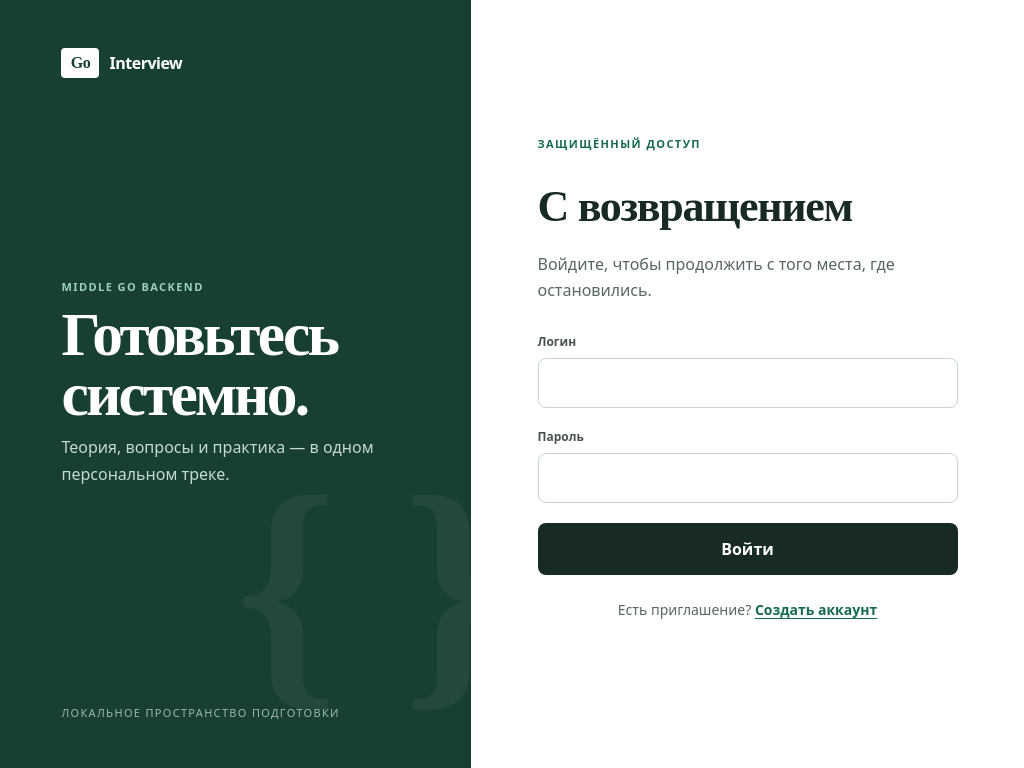
Test: keeps login failures generic and the form accessible
Expected: the heading "С возвращением" is shown, x1=538 y1=182 x2=852 y2=231
Type "fedor" into the field labelled "Логин" at (748, 383), box x1=538 y1=358 x2=958 y2=408
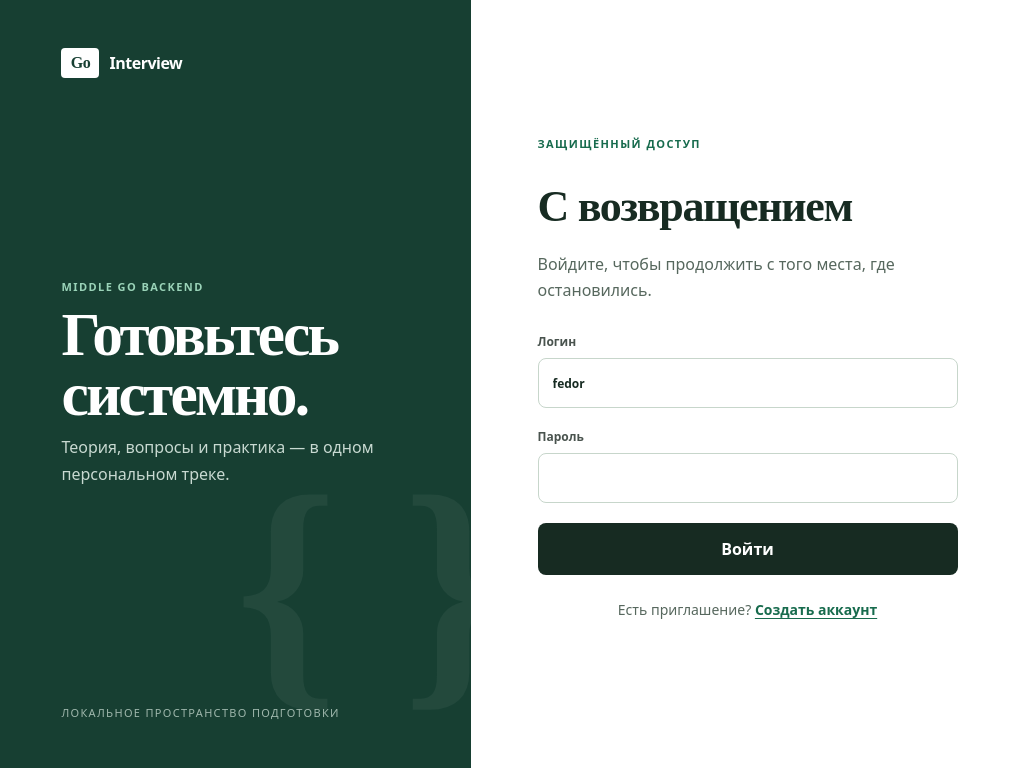
Type "wrong-password" into the password field labelled "Пароль" at (748, 478), box x1=538 y1=453 x2=958 y2=503
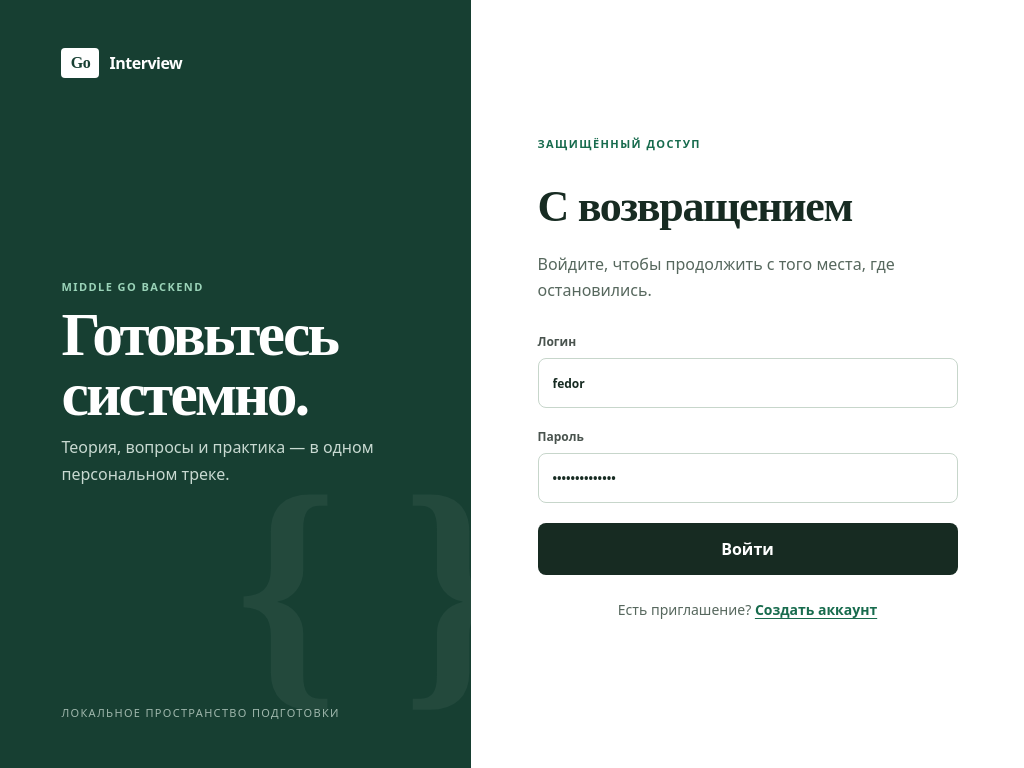
Click the button "Войти" at (748, 549), box x1=538 y1=523 x2=958 y2=575
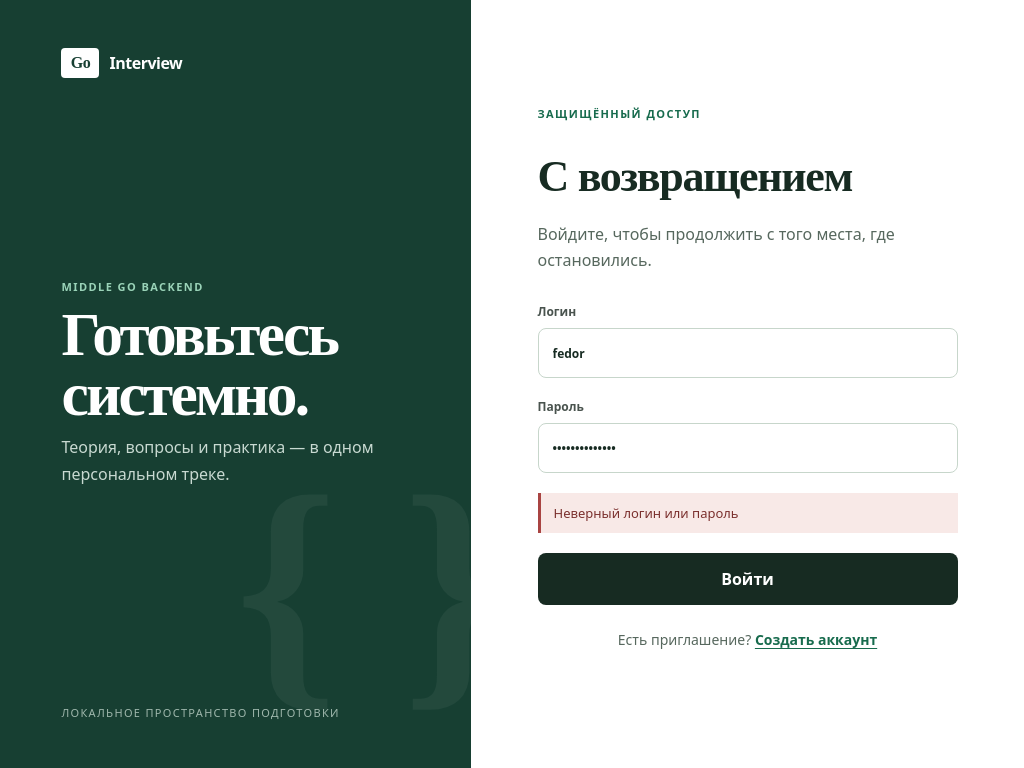
Now the message reads "Неверный логин или пароль", box x1=554 y1=504 x2=739 y2=522
